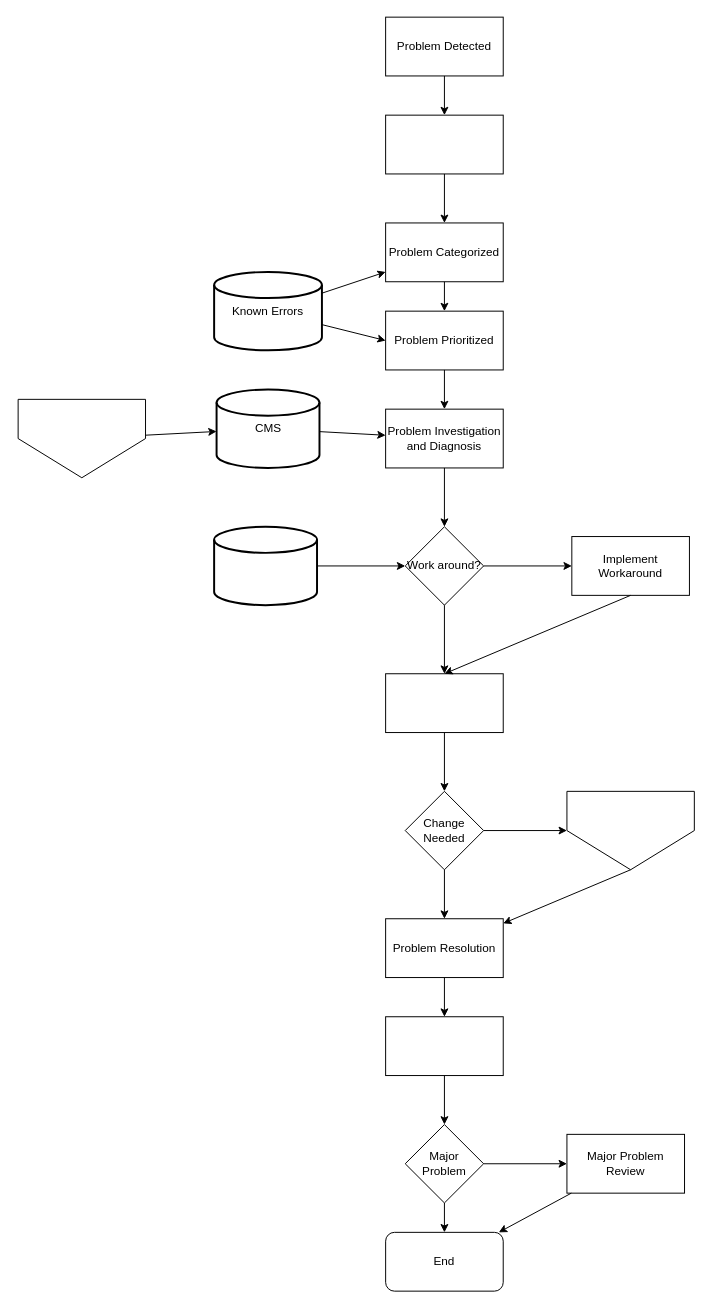
Some shapes in this 711 by 1308 pixel diagram are drawn without their labels. The shapes that lost their labels are listed below. From the top down, each one's centre as x and y in pixels, then its label:
At (444,144): "Problem Logged".
At (81,438): "Knowledge Management".
At (265,565): "Known Errors in Enterprise".
At (444,703): "Create Known Error Record".
At (630,830): "Change Management".
At (444,1046): "Problem Closure".
